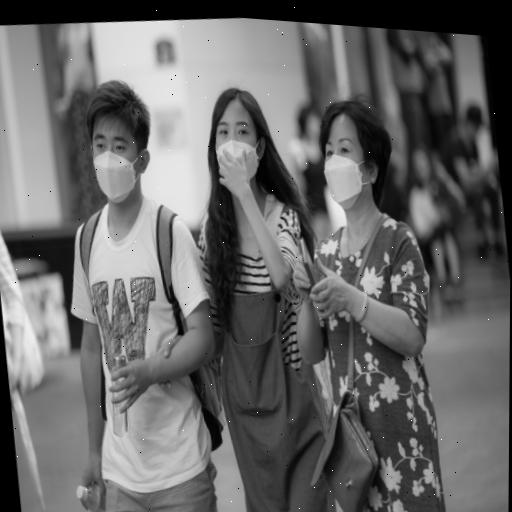mask: (75, 69, 162, 214), (195, 76, 286, 210), (308, 89, 398, 218)
